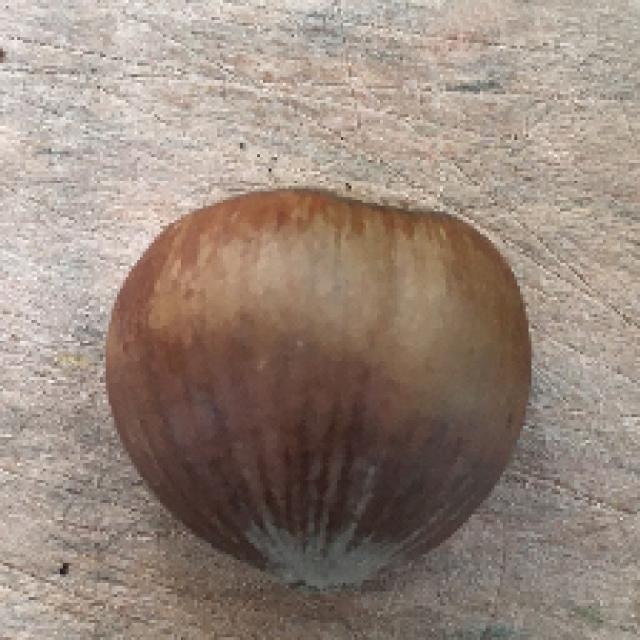DamagedHazelnut: (101, 177, 531, 590)
